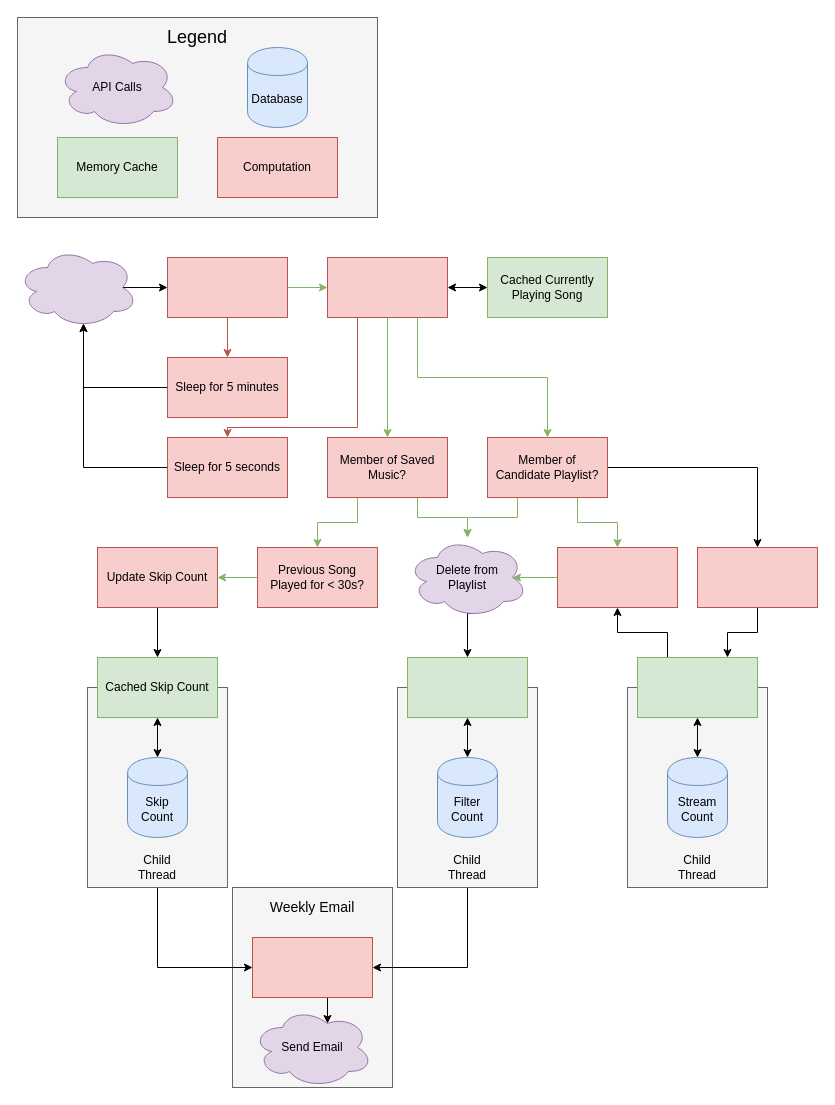
The diagram is 835 pixels wide and 1105 high, and some of its shapes have lost their labels. Each missing label, with the centre of its shape:
"Actively Playing?" belongs at point (227, 287).
"Aggregate Statistics" belongs at point (312, 967).
"Cached Filtered Count" belongs at point (467, 687).
"Cached Stream Count" belongs at point (697, 687).
"Different?" belongs at point (387, 287).
"Get Currently Playing Song" belongs at point (77, 287).
"Stream Count > 5?" belongs at point (617, 577).
"Update Stream Count" belongs at point (757, 577).
